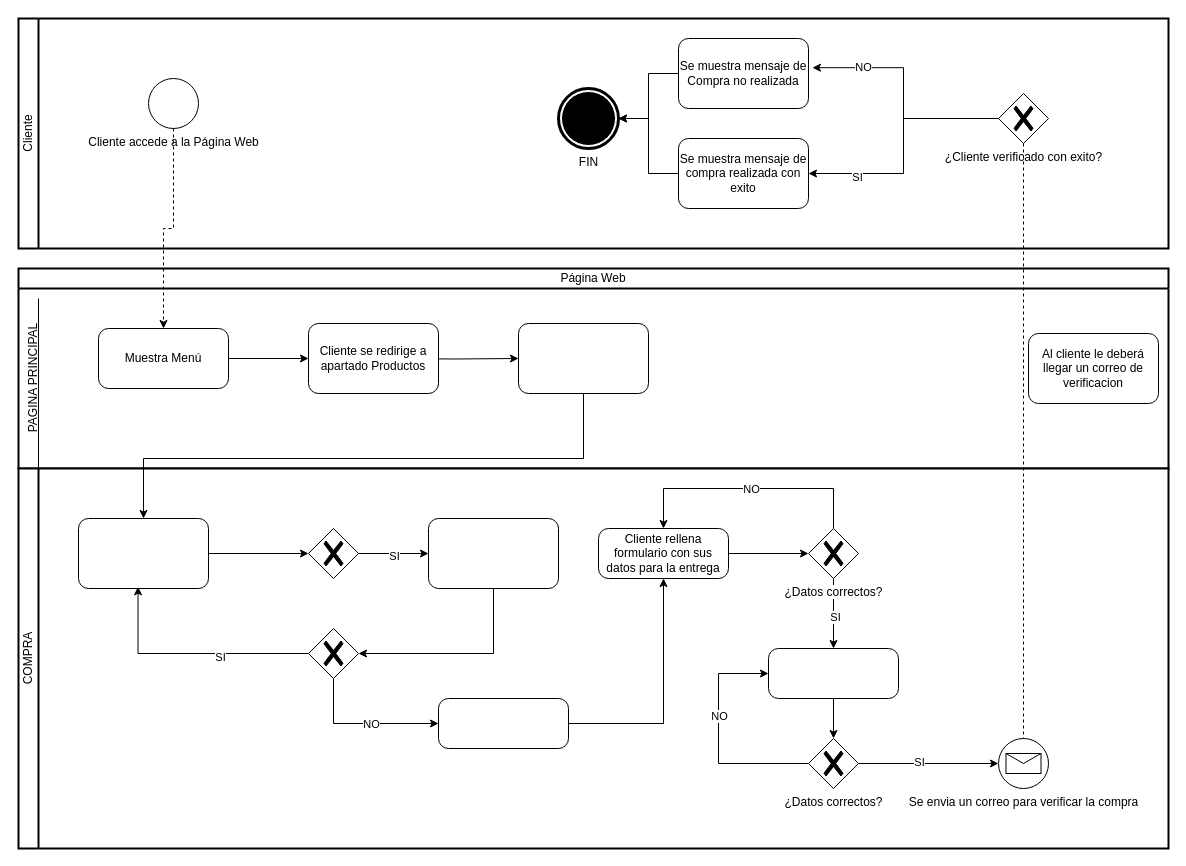
This 1186x866 diagram has some shape labels left out. Each missing label, with the centre of its shape:
Al cliente se le ofrecerá por pantalla oda la gama de productos: the point at 583,358
Cliente buscara productos: the point at 143,553
Cliente clicka en el carrito: the point at 503,723
Cliente elije una forma de pago y pone sus datos correspondientes: the point at 833,673
Se mostrara: "Producto añadido al carrito": the point at 493,553
¿Añadir al carrito?: the point at 333,553
¿Seguir Comprando?: the point at 333,653
